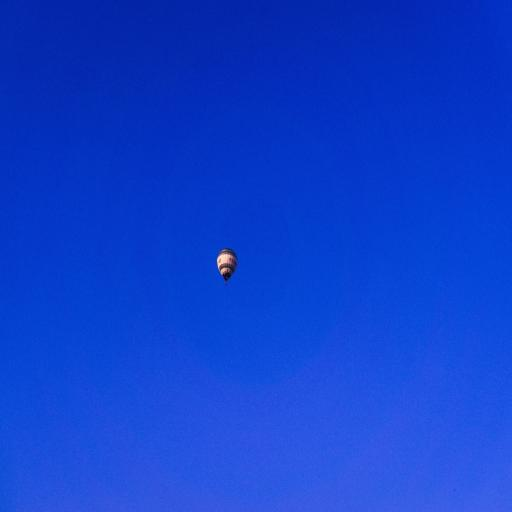hot air ballon: (216, 240, 238, 290)
